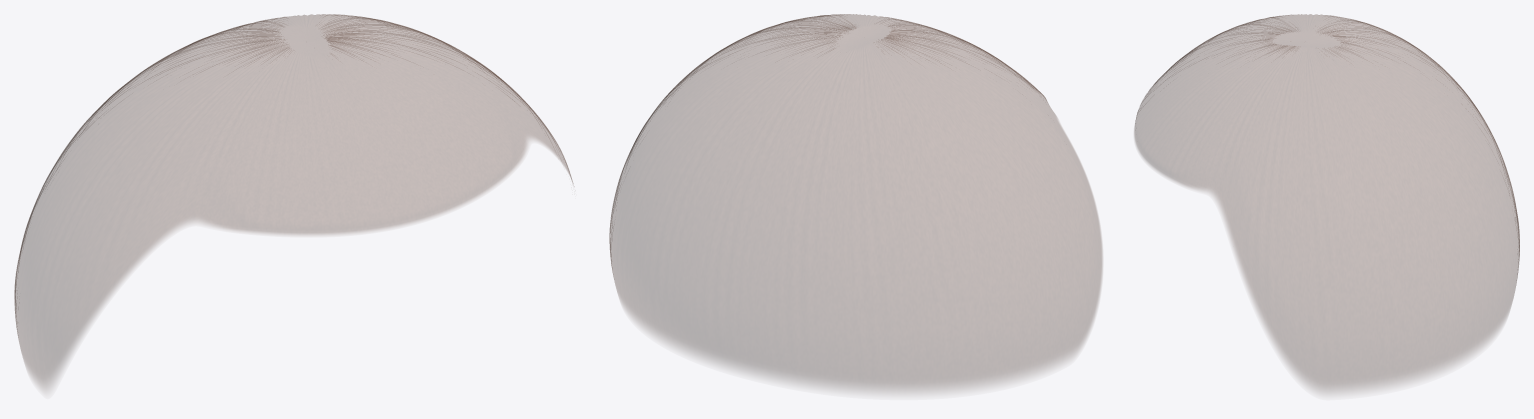
Rendered from Masculine-buzz-cowboy252-hair.glb.
3 views of the same model, side by side, from view 1: azimuth 30°, elevation 25°; view 2: azimuth 150°, elevation 25°; view 3: azimuth 270°, elevation 25° (orthographic). The views are drawn at different scales.
Visible parts, largest first — view 1: 226 hair / Hair252 / buzz edge.001; view 2: 226 hair / Hair252 / buzz edge.001; view 3: 226 hair / Hair252 / buzz edge.001.
Boxes of the visible parts, left/top/right/bottom form: 226 hair / Hair252 / buzz edge.001: left=14, top=14, right=573, bottom=389; 226 hair / Hair252 / buzz edge.001: left=609, top=14, right=1102, bottom=392; 226 hair / Hair252 / buzz edge.001: left=1134, top=14, right=1519, bottom=392.
Bounding box in the file's own units: 0.9886 × 0.574 × 0.761.
1 material, 1 textured.
